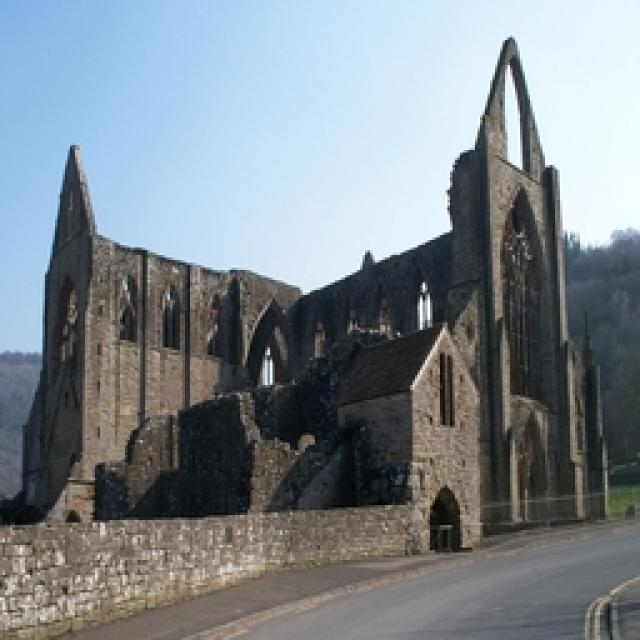Abbey: (33, 125, 603, 540)
